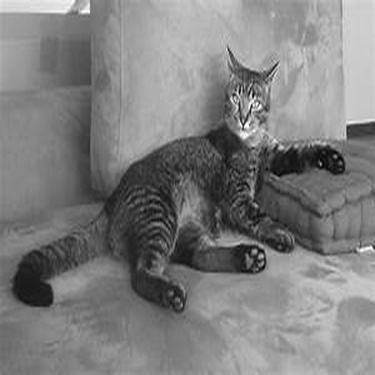cat: (9, 42, 349, 315)
